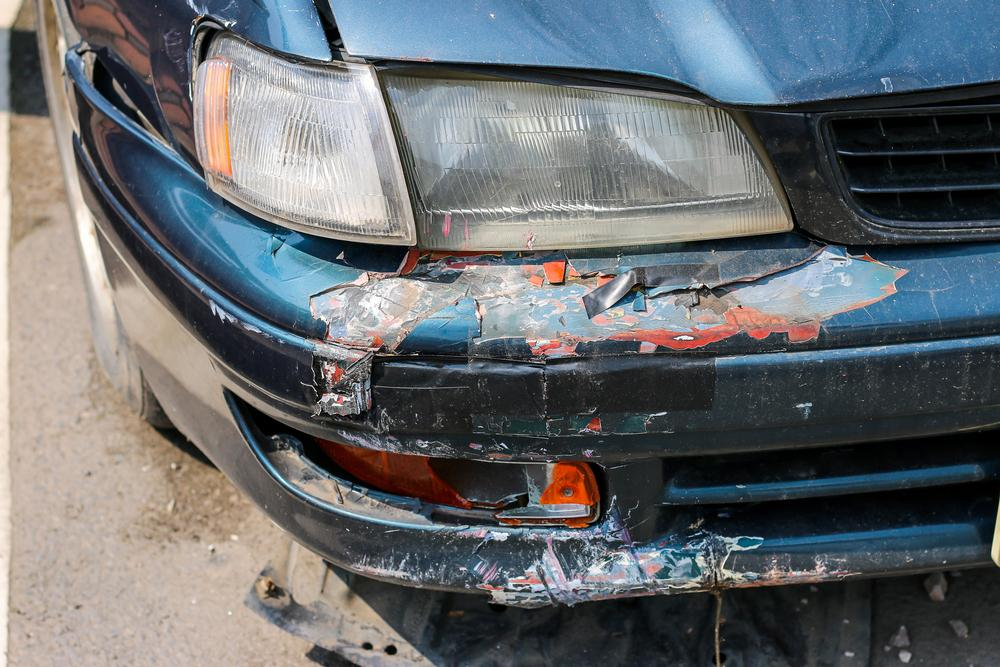scratch: (306, 253, 918, 424), (368, 523, 834, 603)
